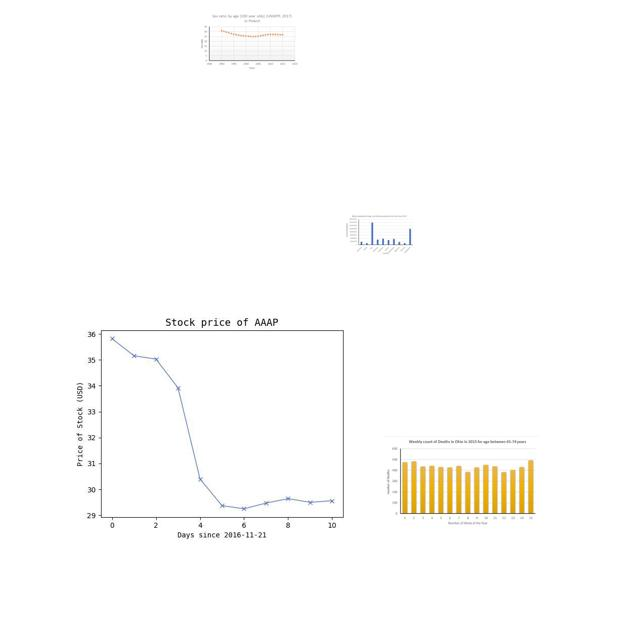Graph: (56, 301, 380, 544), (383, 436, 539, 529), (198, 12, 299, 72), (345, 214, 414, 255)
